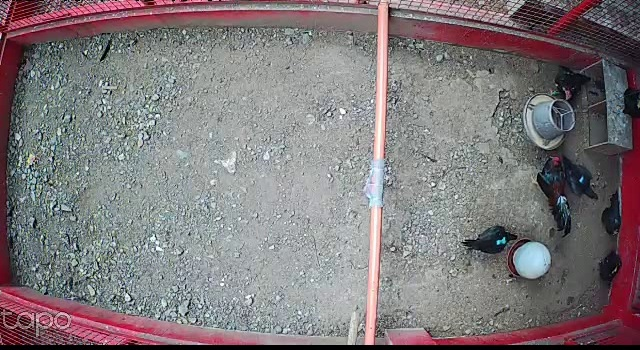Chicken: (558, 150, 603, 202), (461, 224, 519, 257), (599, 188, 627, 242), (550, 64, 589, 101), (596, 248, 623, 287)
Drinker: (506, 237, 555, 282)
Feeder: (523, 91, 578, 147)
Rooster: (529, 153, 575, 238)
Saddle_Color_Blue: (577, 175, 584, 183)
